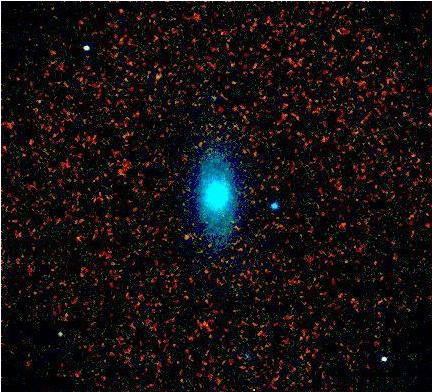star: (170, 221, 200, 251)
